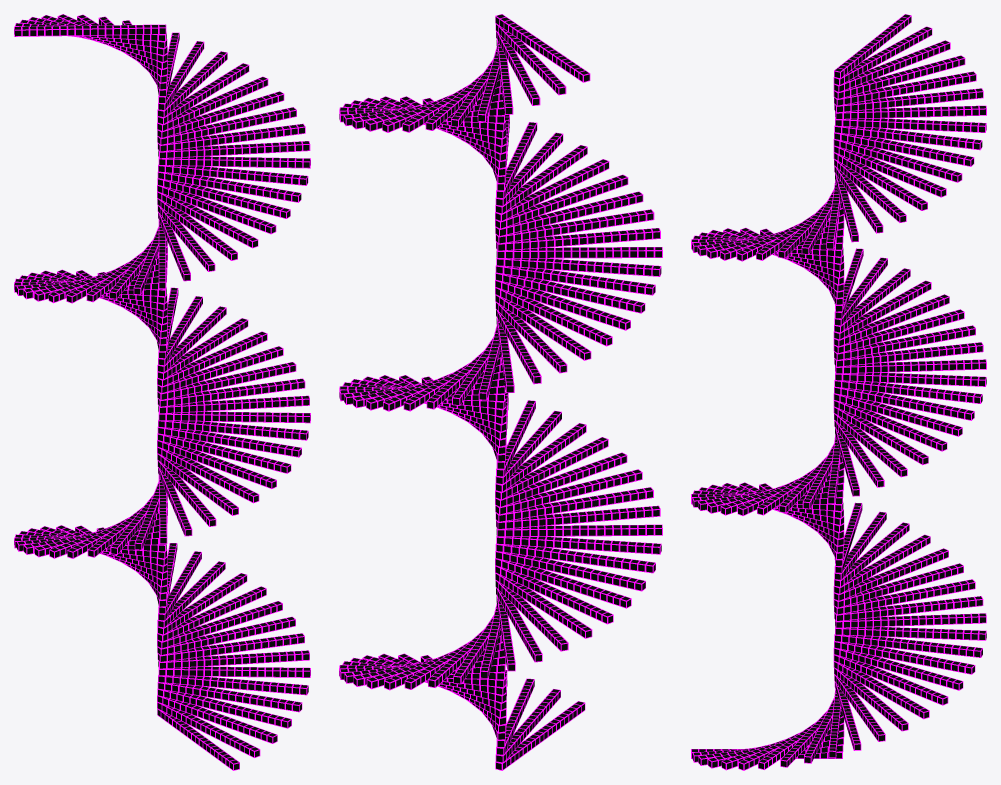
The model's file is Cool Staircase.fbx.
The picture shows the model from 3 angles, left to right: view 1: azimuth 30°, elevation 25°; view 2: azimuth 150°, elevation 25°; view 3: azimuth 270°, elevation 25°; orthographic projection. The views are drawn at different scales.
Visible parts, largest first — view 1: Cube; view 2: Cube; view 3: Cube.
Boxes of the visible parts, x1,y1,x2,y2 form: Cube: (14,14,310,770); Cube: (339,14,662,770); Cube: (691,14,986,770).
Bounding box in the file's own units: 7802 × 20000 × 7799.
